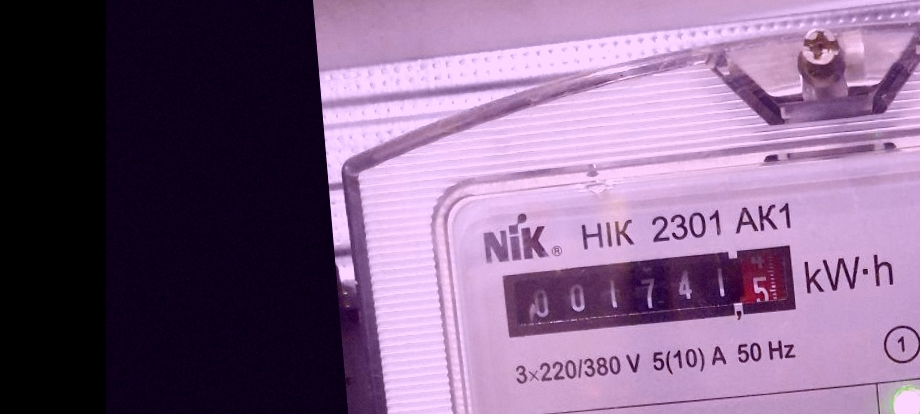0: (567, 279, 589, 314), (531, 285, 553, 319)
1: (602, 274, 622, 311), (712, 264, 730, 300)
4: (674, 266, 697, 302), (749, 251, 766, 271)
5: (750, 271, 771, 304)
7: (639, 274, 658, 310)
screen: (496, 238, 805, 344)
